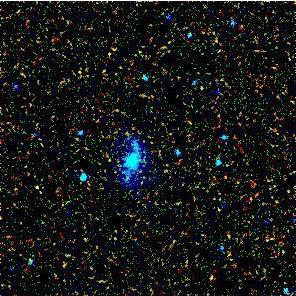star: (193, 263, 223, 293)
